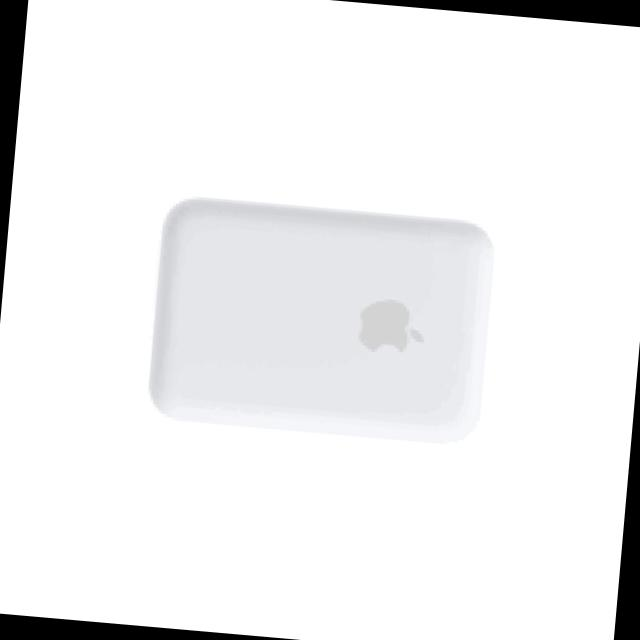power_bank: (141, 191, 496, 446)
